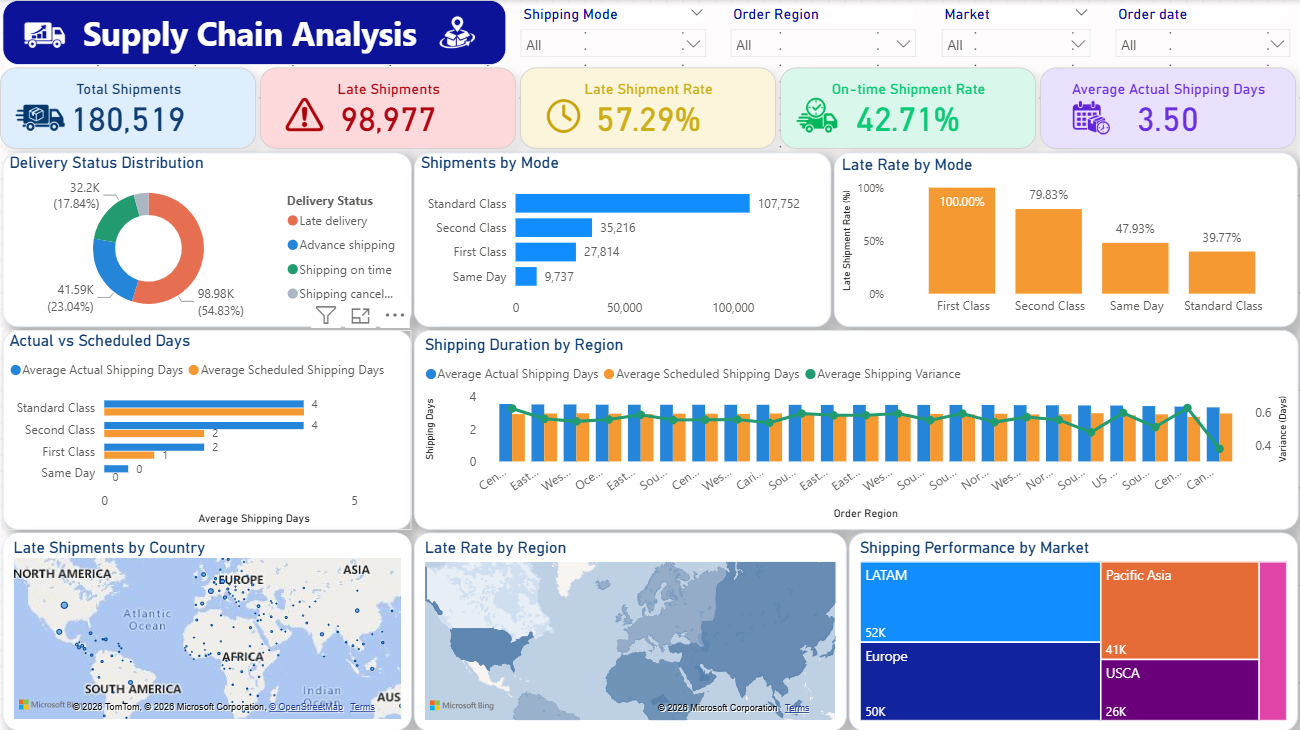

What the dashboard file says about the page in this screenshot:
{"tool":"powerbi","page":{"name":"Page 1","canvas":[1280,720],"ordinal":0},"visuals":[{"type":"card","title":"Total Shipments","fields":{"Values":["supply_chain data_cleaned.Total Shipments"]},"box":[0,66,252,80],"z":8000},{"type":"card","title":"Late Shipments","fields":{"Values":["supply_chain data_cleaned.Late Shipments"]},"box":[256,66,252,80],"z":9000},{"type":"card","title":"Late Shipment Rate","fields":{"Values":["supply_chain data_cleaned.Late Shipment Rate"]},"box":[512,66,252,80],"z":10000},{"type":"card","title":"On-time Shipment Rate","fields":{"Values":["supply_chain data_cleaned.On-time Shipment Rate"]},"box":[768,66,252,80],"z":11000},{"type":"textbox","box":[3,0,496,64],"z":12000},{"type":"slicer","fields":{"Values":["supply_chain data_cleaned.order date (DateOrders)"]},"box":[1088,0,192,64],"z":13000},{"type":"slicer","fields":{"Values":["supply_chain data_cleaned.Shipping Mode"]},"box":[502,0,203,64],"z":14000},{"type":"slicer","fields":{"Values":["supply_chain data_cleaned.Order Region"]},"box":[709,0,203,64],"z":15000},{"type":"slicer","fields":{"Values":["supply_chain data_cleaned.Market"]},"box":[917,0,167,64],"z":16000},{"type":"card","title":"Average Actual Shipping Days","fields":{"Values":["supply_chain data_cleaned.Average Actual Shipping Days"]},"box":[1024,66,252,80],"z":17000},{"type":"image","box":[0,2,88,63],"z":18000},{"type":"image","box":[416,0,69,64],"z":19000},{"type":"image","box":[1035,75,79,80],"z":20000},{"type":"image","box":[0,74,80,80],"z":21000},{"type":"image","box":[269,76,61,73],"z":22000},{"type":"image","box":[510,74,91,83],"z":23000},{"type":"image","box":[766,72,80,80],"z":24000},{"type":"donutChart","title":"Delivery Status Distribution","fields":{"Category":["supply_chain data_cleaned.Delivery Status"],"Y":["CountNonNull(supply_chain data_cleaned.Delivery Status)"]},"box":[2,150,403,172],"z":25500},{"type":"clusteredBarChart","title":"Shipments by Mode","fields":{"Category":["supply_chain data_cleaned.Shipping Mode"],"Y":["supply_chain data_cleaned.Total Shipments"]},"box":[407,150,411,172],"z":26000},{"type":"clusteredColumnChart","title":"Late Rate by Mode","fields":{"Category":["supply_chain data_cleaned.Shipping Mode"],"Y":["supply_chain data_cleaned.Late Shipment Rate"]},"box":[821,150,457,172],"z":26500},{"type":"clusteredBarChart","title":"Actual vs Scheduled Days","fields":{"Category":["supply_chain data_cleaned.Shipping Mode"],"Y":["supply_chain data_cleaned.Average Actual Shipping Days","supply_chain data_cleaned.Average Scheduled Shipping Days"]},"box":[2,325,403,197],"z":27000},{"type":"lineClusteredColumnComboChart","title":"Shipping Duration by Region","fields":{"Category":["supply_chain data_cleaned.Order Region"],"Y":["supply_chain data_cleaned.Average Actual Shipping Days","supply_chain data_cleaned.Average Scheduled Shipping Days"],"Y2":["supply_chain data_cleaned.Average Shipping Variance"]},"box":[407,325,871,197],"z":27500},{"type":"map","title":"Late Shipments by Country","fields":{"Category":["supply_chain data_cleaned.Order Country"],"Size":["supply_chain data_cleaned.Late Shipments"]},"box":[2,524,403,195],"z":28000},{"type":"filledMap","title":"Late Rate by Region","fields":{"Category":["supply_chain data_cleaned.Order Region"]},"box":[407,524,426,196],"z":30500},{"type":"treemap","title":"Shipping Performance by Market","fields":{"Group":["supply_chain data_cleaned.Market"],"Values":["supply_chain data_cleaned.Total Shipments"]},"box":[836,524,442,196],"z":31000}]}

Visuals, with their boxes in screenshot pixels (x1, y1, x2, y2), scaled from the page's 1280x720 canvas onto the 1300x730 screenshot:
"Total Shipments" card: region(0, 67, 256, 148)
"Late Shipments" card: region(260, 67, 516, 148)
"Late Shipment Rate" card: region(520, 67, 776, 148)
"On-time Shipment Rate" card: region(780, 67, 1036, 148)
textbox: region(3, 0, 507, 65)
slicer - supply_chain data_cleaned.order date (DateOrders): region(1105, 0, 1299, 65)
slicer - supply_chain data_cleaned.Shipping Mode: region(510, 0, 716, 65)
slicer - supply_chain data_cleaned.Order Region: region(720, 0, 926, 65)
slicer - supply_chain data_cleaned.Market: region(931, 0, 1101, 65)
"Average Actual Shipping Days" card: region(1040, 67, 1296, 148)
image: region(0, 2, 89, 66)
image: region(422, 0, 493, 65)
image: region(1051, 76, 1131, 157)
image: region(0, 75, 81, 156)
image: region(273, 77, 335, 151)
image: region(518, 75, 610, 159)
image: region(778, 73, 859, 154)
"Delivery Status Distribution" donutChart: region(2, 152, 411, 326)
"Shipments by Mode" clusteredBarChart: region(413, 152, 831, 326)
"Late Rate by Mode" clusteredColumnChart: region(834, 152, 1298, 326)
"Actual vs Scheduled Days" clusteredBarChart: region(2, 330, 411, 529)
"Shipping Duration by Region" lineClusteredColumnComboChart: region(413, 330, 1298, 529)
"Late Shipments by Country" map: region(2, 531, 411, 729)
"Late Rate by Region" filledMap: region(413, 531, 846, 729)
"Shipping Performance by Market" treemap: region(849, 531, 1298, 729)
